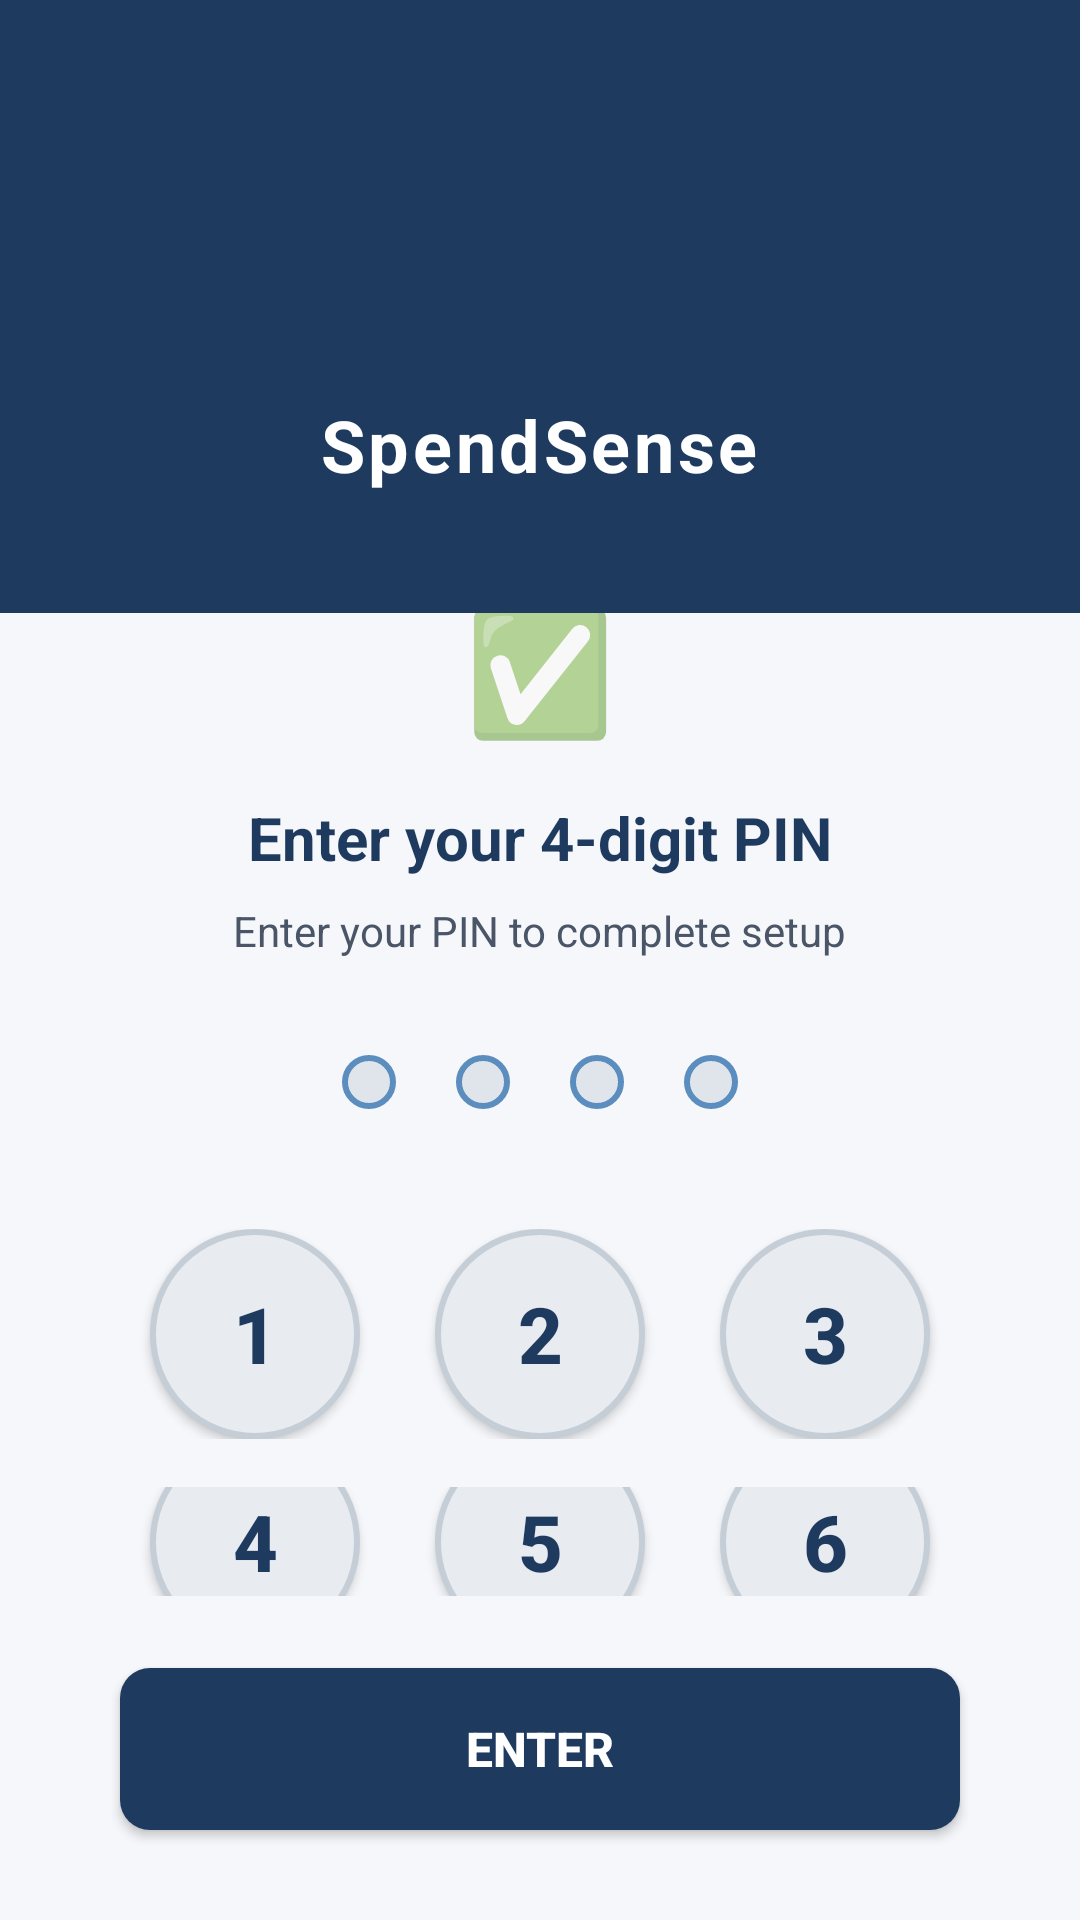

Icon bounding boxes for this 1080×1920 phone screenshot, format [left=x1, top=y1, right=x2, bottom=y2]:
pin dot empty: [left=342, top=1055, right=396, bottom=1109], [left=456, top=1055, right=510, bottom=1109], [left=570, top=1055, right=624, bottom=1109], [left=684, top=1055, right=738, bottom=1109]
